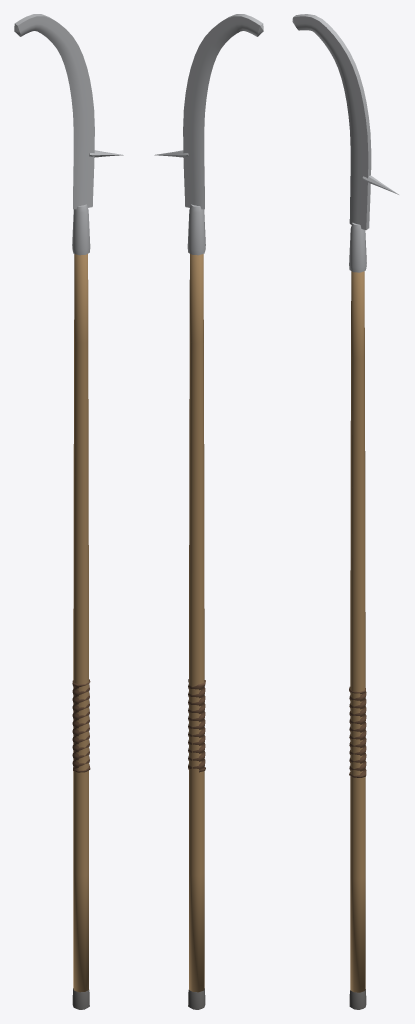
File: guisarme.glb
3 views of the same model, side by side, from view 1: azimuth 30°, elevation 25°; view 2: azimuth 150°, elevation 25°; view 3: azimuth 330°, elevation 25° (orthographic). The views are drawn at different scales.
Parts seen in each view (by area): view 1: guisarme; view 2: guisarme; view 3: guisarme.
Part boxes in pixels (left/top/right/bottom): guisarme: left=14, top=14, right=123, bottom=1009; guisarme: left=154, top=14, right=263, bottom=1009; guisarme: left=292, top=14, right=398, bottom=1009.
Size of the model in its own units: 0.66 by 5.72 by 0.0974.
